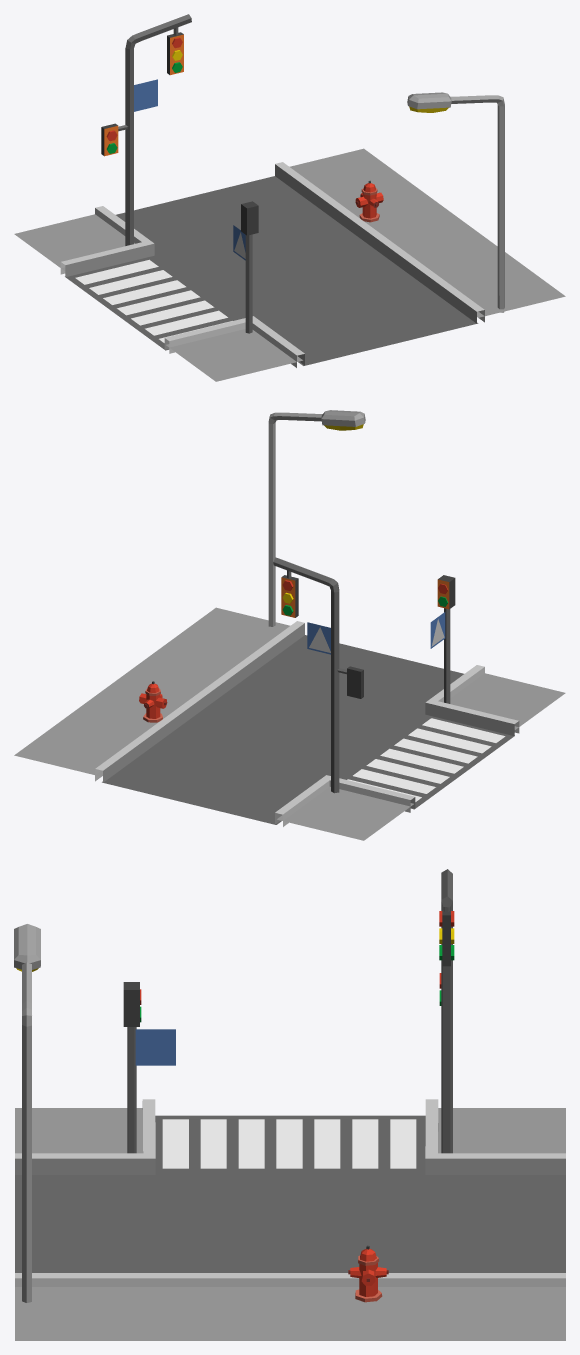
File: Road_Tile_6.fbx
3 views of the same model, one above another, from view 1: azimuth 30°, elevation 25°; view 2: azimuth 150°, elevation 25°; view 3: azimuth 270°, elevation 25° (orthographic). The views are drawn at different scales.
Visible parts, largest first — view 1: Road_6, Sign_6_1, Light_6, Sign_6_2, Hydrant_6; view 2: Road_6, Sign_6_1, Light_6, Sign_6_2, Hydrant_6; view 3: Road_6, Light_6, Sign_6_1, Sign_6_2, Hydrant_6.
Part boxes in pixels (bbox=[...]): Road_6: bbox=[14, 148, 565, 381]; Sign_6_1: bbox=[101, 14, 191, 245]; Light_6: bbox=[407, 92, 504, 312]; Sign_6_2: bbox=[233, 201, 258, 333]; Hydrant_6: bbox=[355, 180, 383, 222]; Road_6: bbox=[14, 607, 565, 840]; Sign_6_1: bbox=[273, 557, 363, 793]; Light_6: bbox=[268, 410, 365, 626]; Sign_6_2: bbox=[430, 575, 455, 703]; Hydrant_6: bbox=[139, 681, 167, 722]; Road_6: bbox=[15, 1099, 565, 1340]; Light_6: bbox=[14, 924, 40, 1302]; Sign_6_1: bbox=[439, 869, 454, 1153]; Sign_6_2: bbox=[123, 982, 175, 1153]; Hydrant_6: bbox=[348, 1245, 388, 1302].
Size of the model in its own units: 4 by 2.62 by 4.01.
